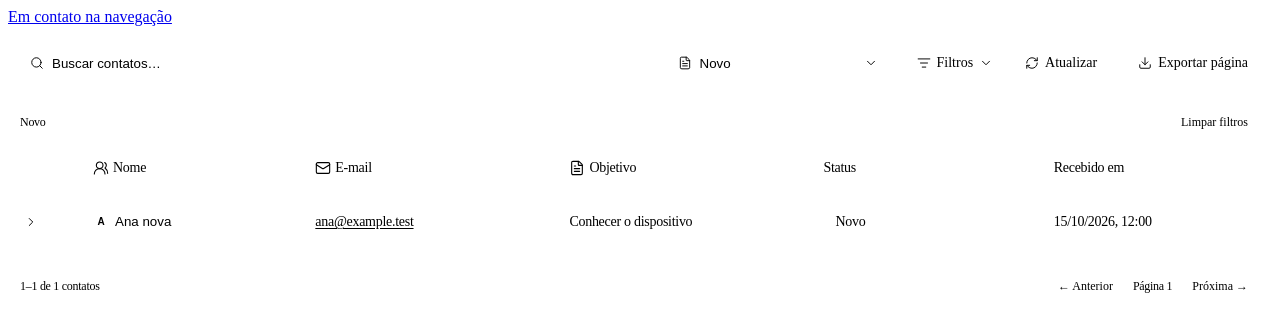
Test case: reapplies sidebar status navigation while the contacts page stays mounted
Check: the button with aria-label "Ver contato de Ana nova" is shown, box [93,212,291,232]
Click the link "Em contato na navegação": coordinates (90, 16) [8,8,172,25]
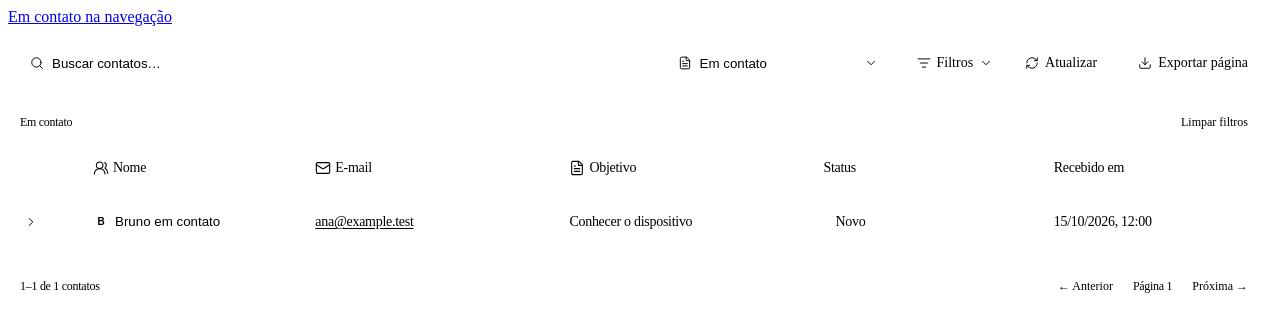
Check: the button with aria-label "Ver contato de Bruno em contato" is shown, box [93,212,291,232]
Check: the dropdown named "Status" shows "Em contato", box [698,56,858,70]
